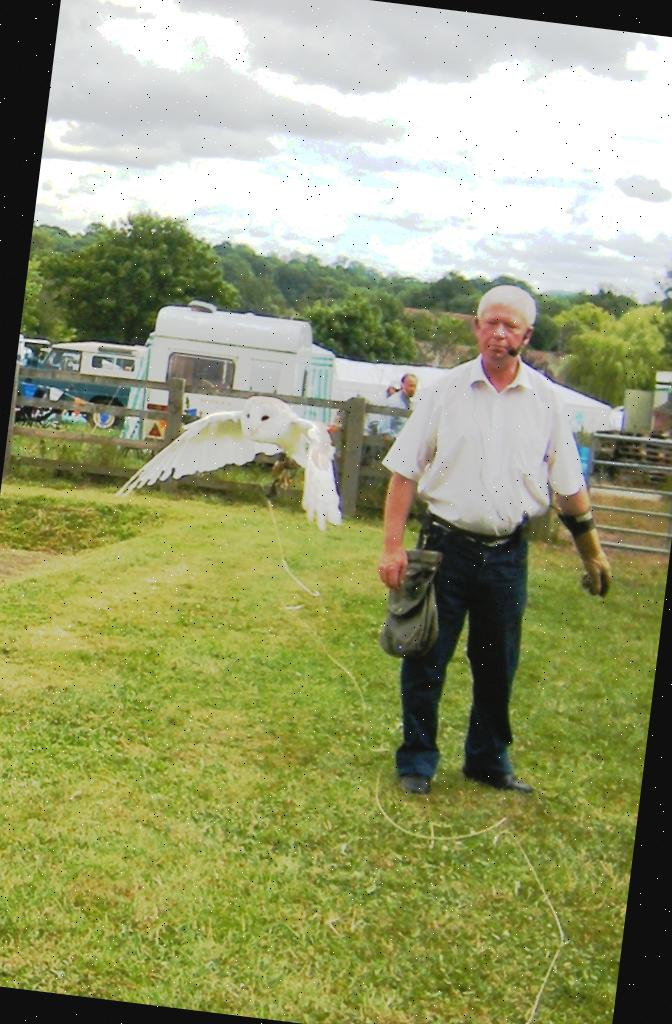Owl: (93, 370, 375, 544)
